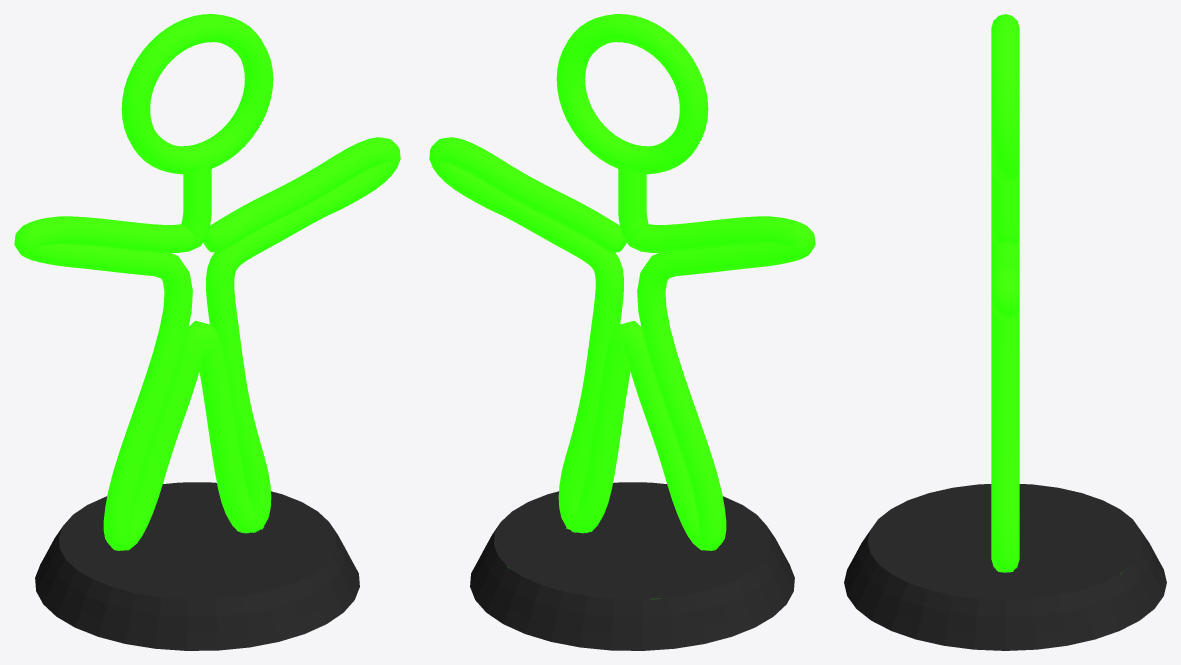
Rendered from GlowingStickmanGreen.fbx.
The picture shows the model from 3 angles, left to right: view 1: azimuth 30°, elevation 25°; view 2: azimuth 150°, elevation 25°; view 3: azimuth 270°, elevation 25°; orthographic projection.
Visible parts, largest first — view 1: GlowingStickmanGreenBaked; view 2: GlowingStickmanGreenBaked; view 3: GlowingStickmanGreenBaked.
Part boxes in pixels (x1,y1,x2,y2): GlowingStickmanGreenBaked: (14, 14, 400, 650); GlowingStickmanGreenBaked: (429, 14, 815, 650); GlowingStickmanGreenBaked: (844, 14, 1166, 650).
Size of the model in its own units: 69.79 by 98.61 by 51.46.
